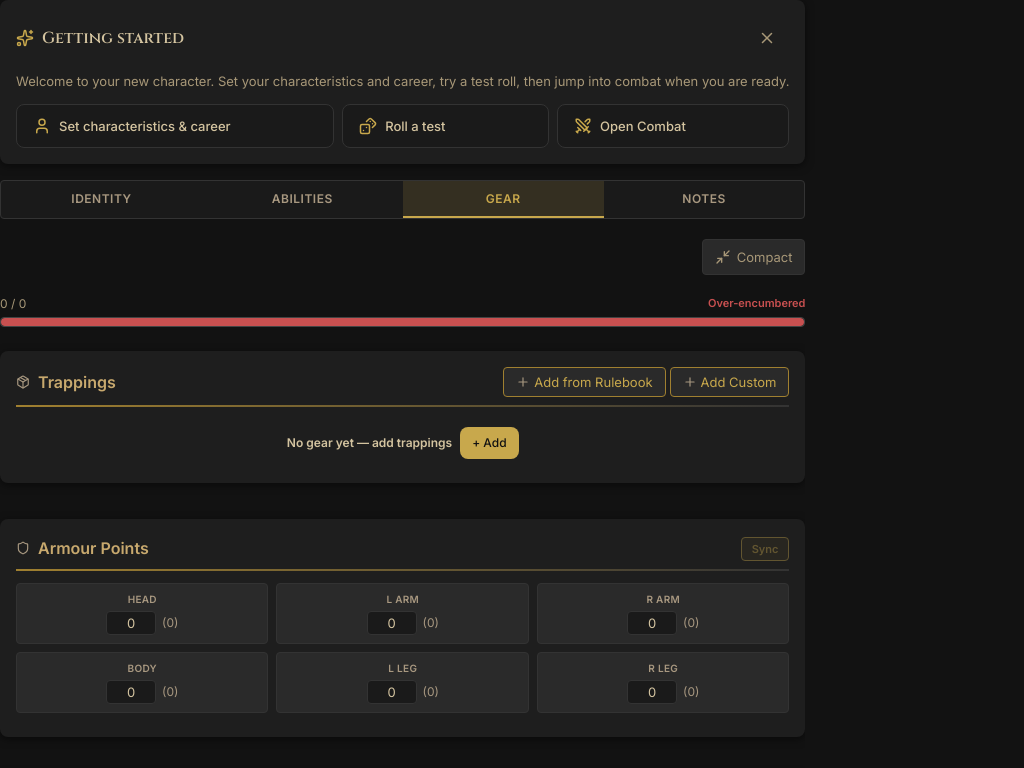
Scenario: CharacterPage Deposit_Control (wealth-treasury-transfer Task 9) › typing an amount shows the per-denomination resulting source/destination preview (Req 6.2)
Click the tab "Gear": (503, 199) [403,180,604,218]
(page scrolled)
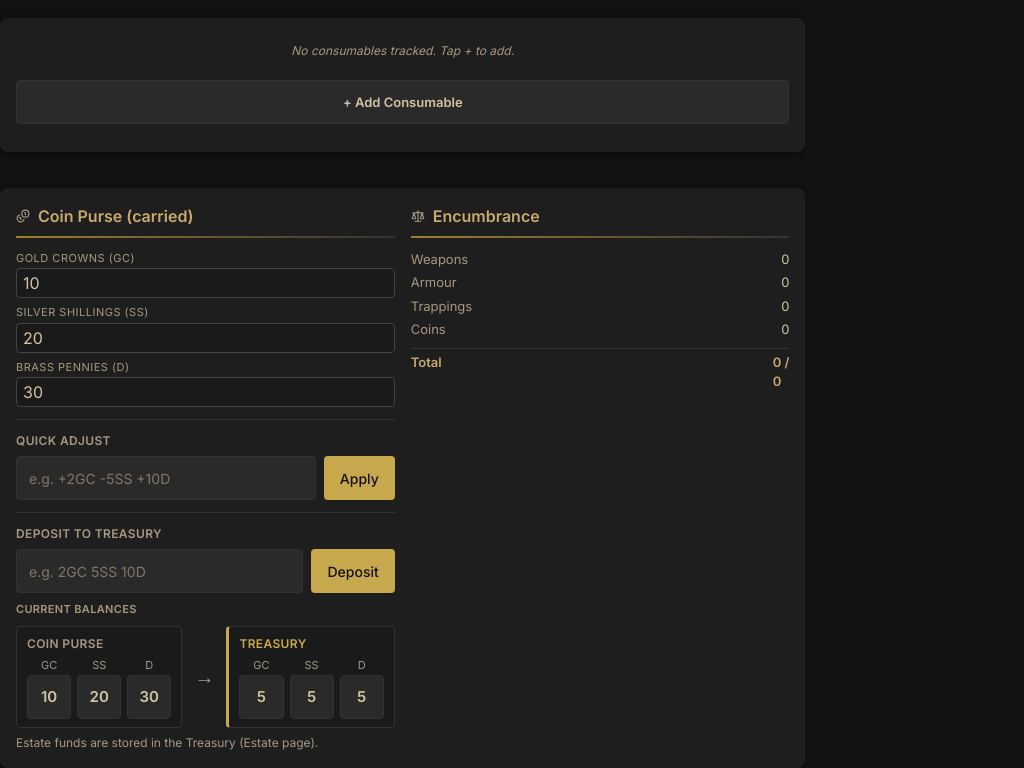
In the field named "Deposit amount": (160, 571) [16,549,304,593], type "2GC 5SS 10D"
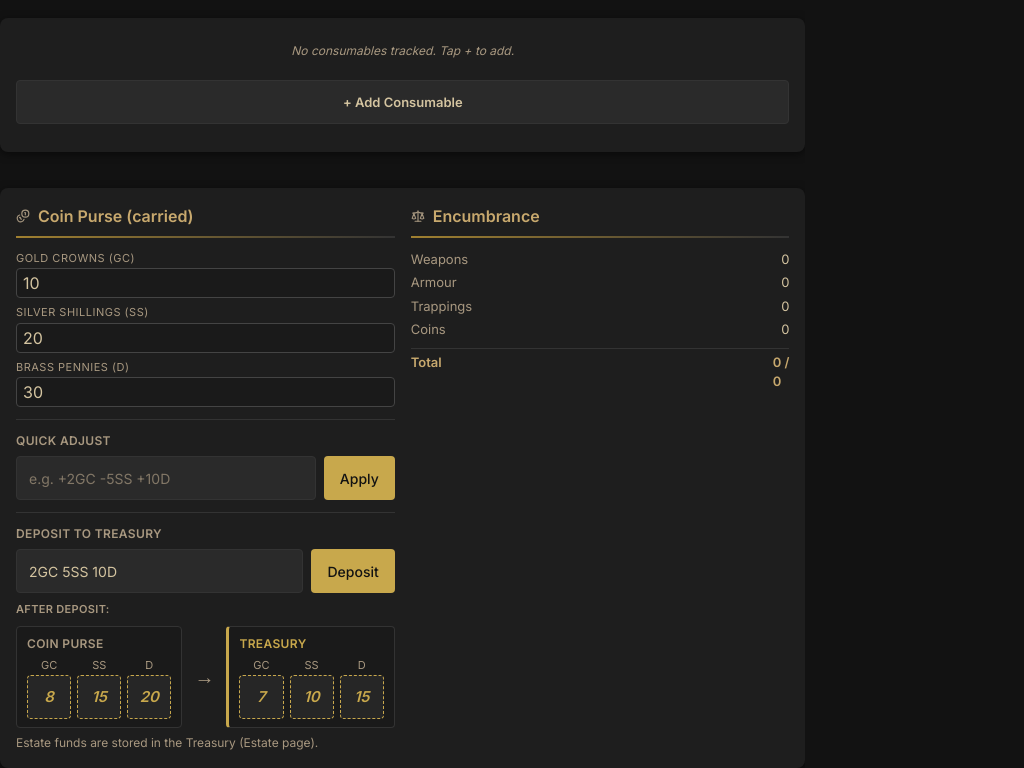
Check: the button with test id "transfer-deposit-source-gc" reads "8", box [27,675,71,719]
Check: the button with test id "transfer-deposit-source-ss" reads "15", box [77,675,121,719]
Check: the button with test id "transfer-deposit-source-d" reads "20", box [127,675,171,719]
